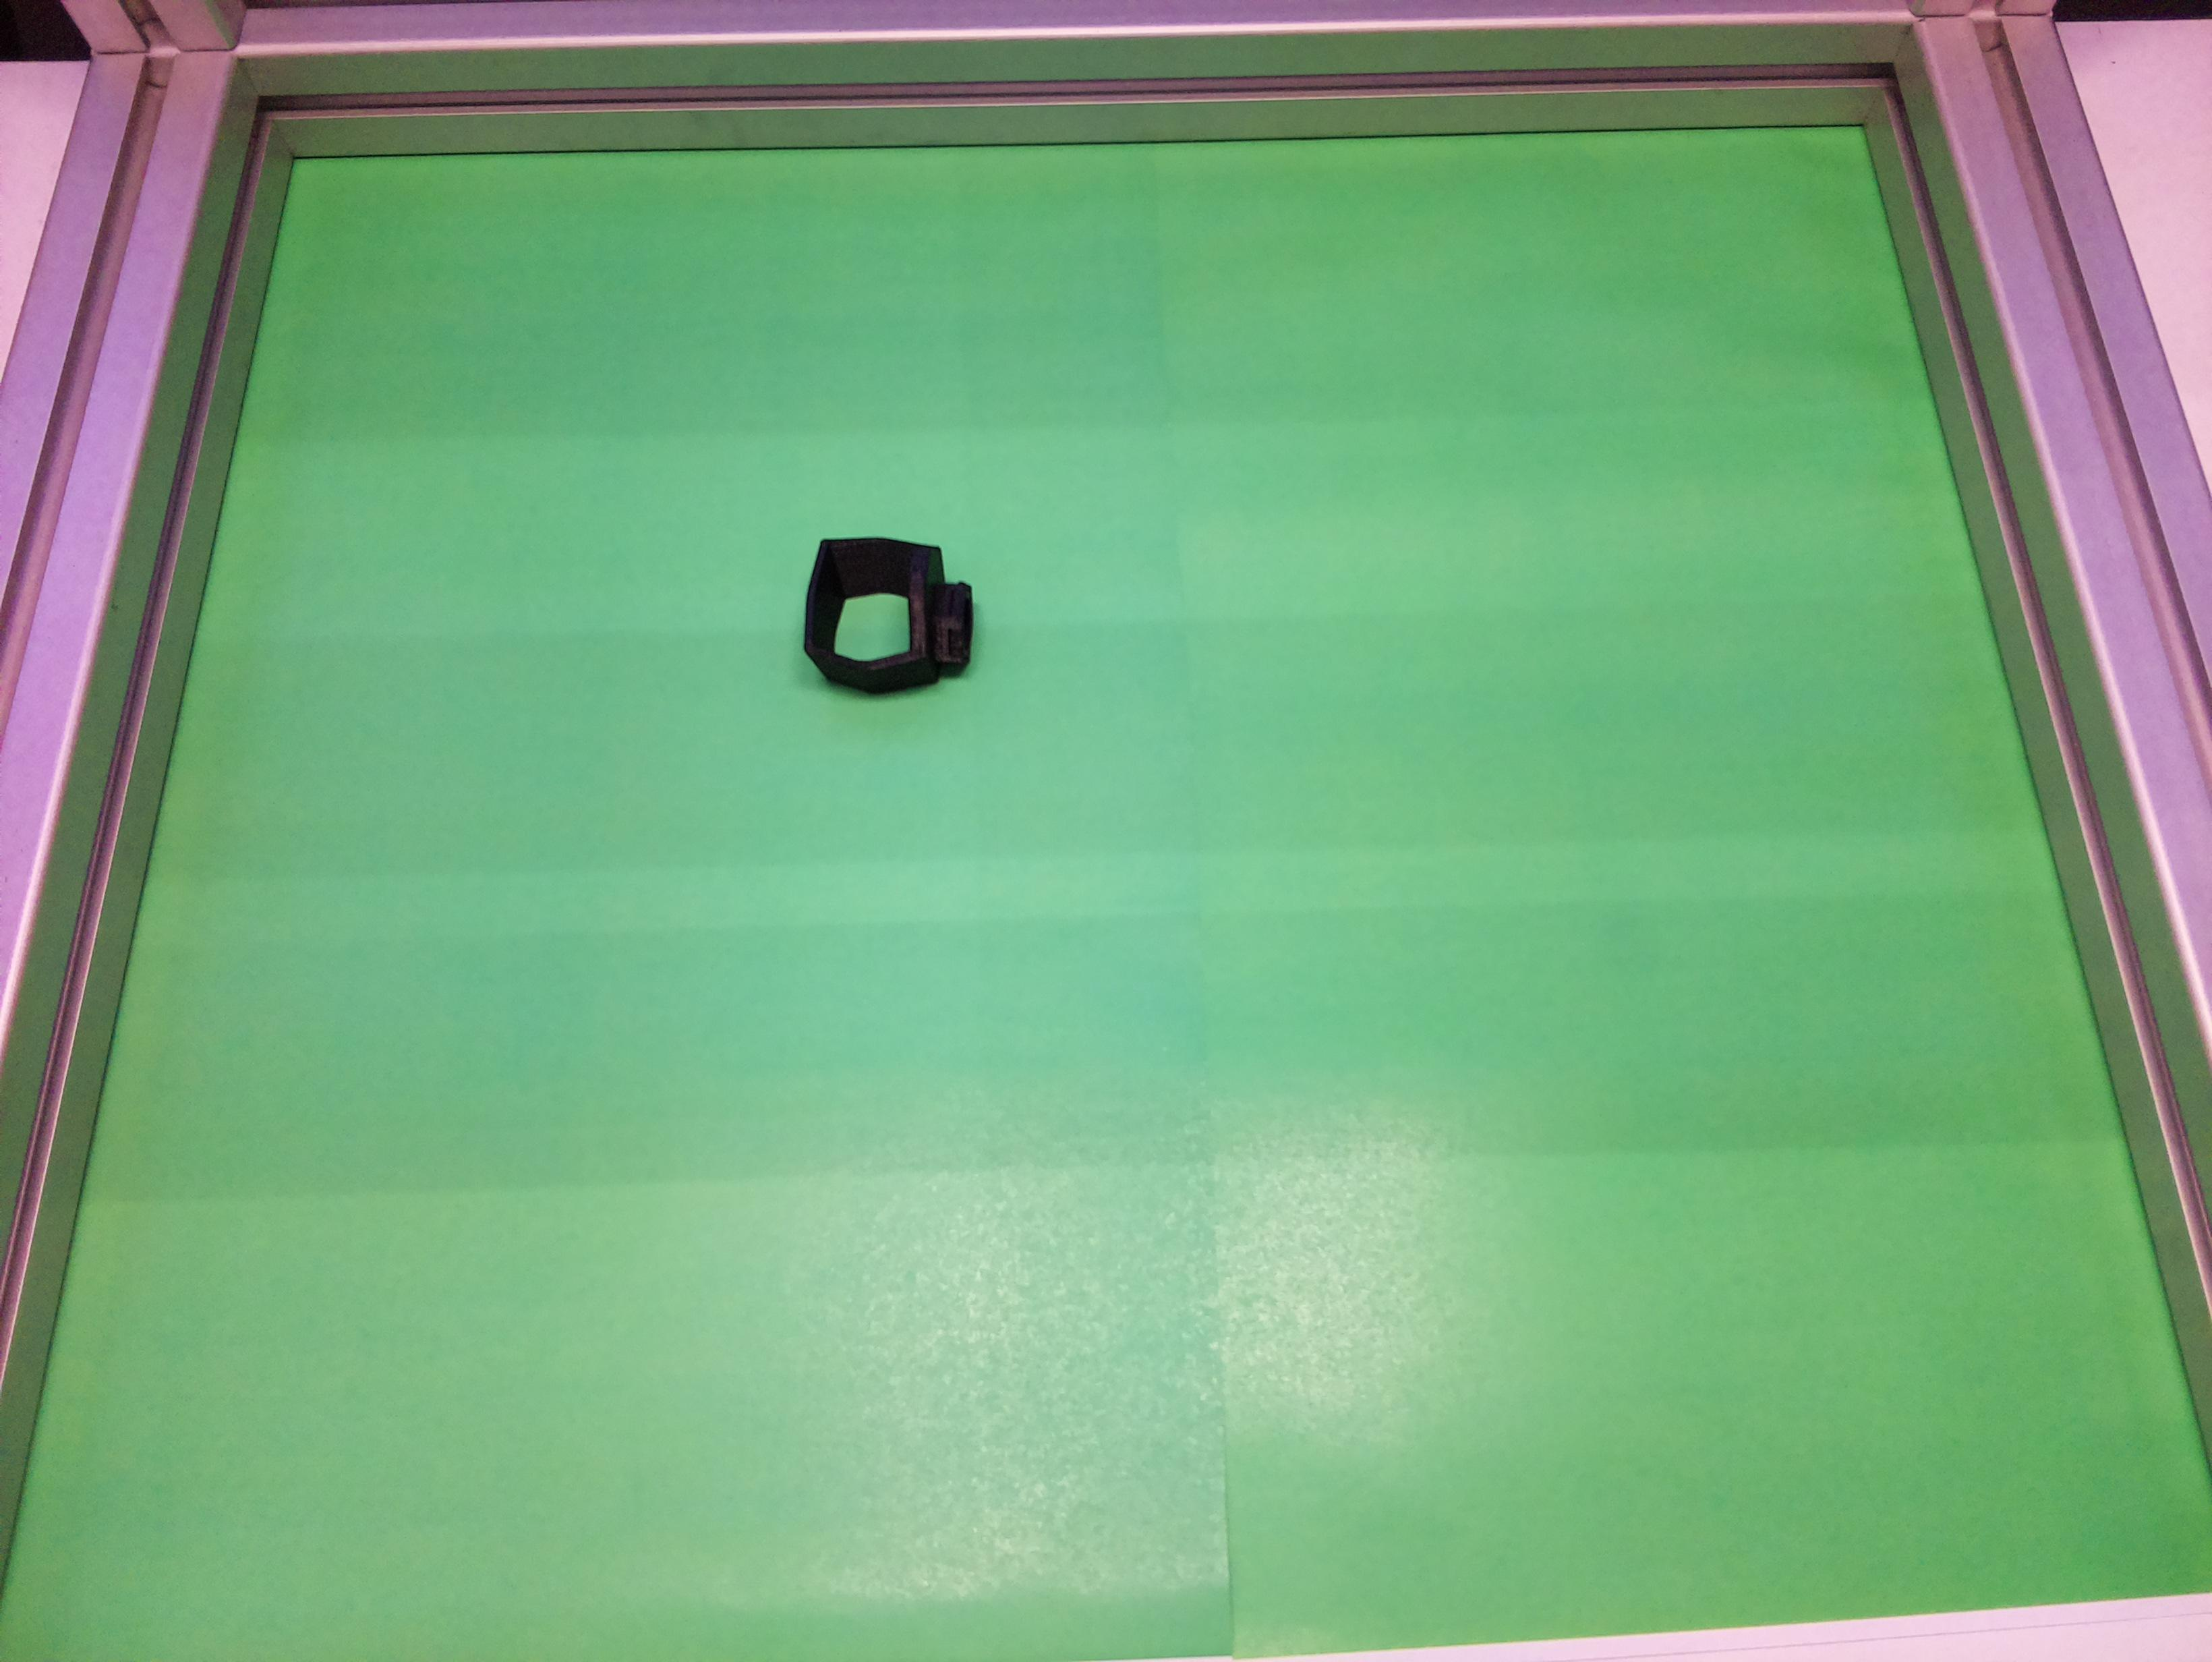scissor_holder: (791, 529, 983, 704)
